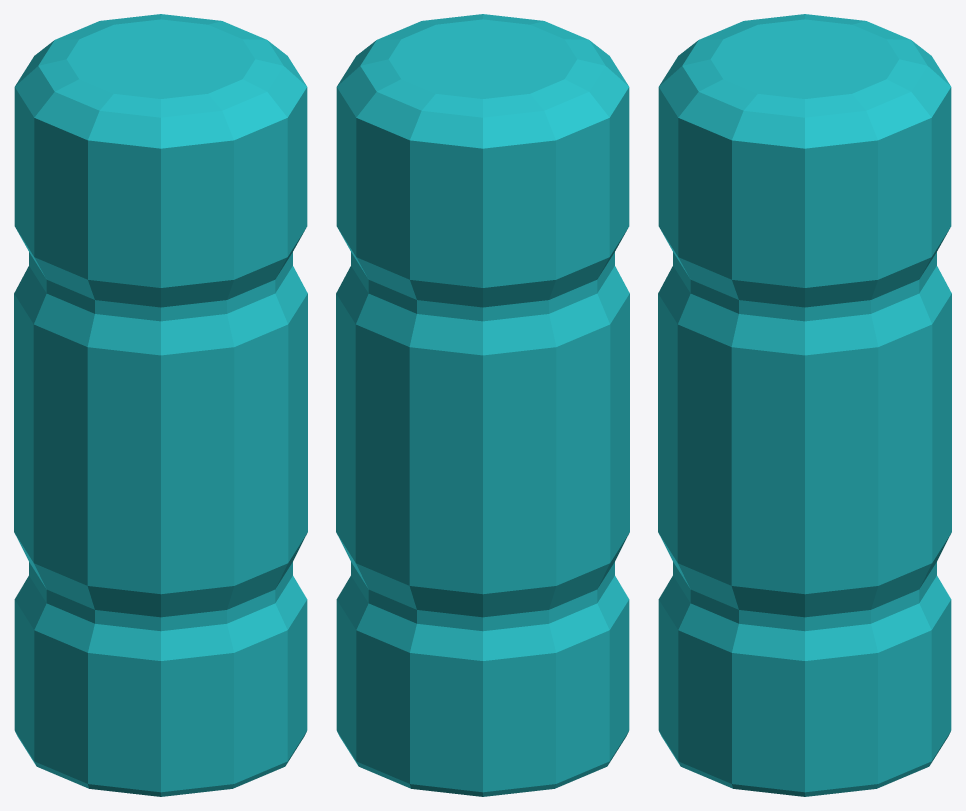
Rendered from ddd.fbx.
3 renders of one model, left to right at view 1: azimuth 30°, elevation 25°; view 2: azimuth 150°, elevation 25°; view 3: azimuth 270°, elevation 25°, orthographic.
Parts seen in each view (by area): view 1: Cylinder.006; view 2: Cylinder.006; view 3: Cylinder.006.
Part boxes in pixels (x1,y1,x2,y2): Cylinder.006: [14, 14, 307, 796]; Cylinder.006: [336, 14, 629, 796]; Cylinder.006: [658, 14, 951, 796].
Bounding box in the file's own units: 44.26 × 113 × 44.26.
